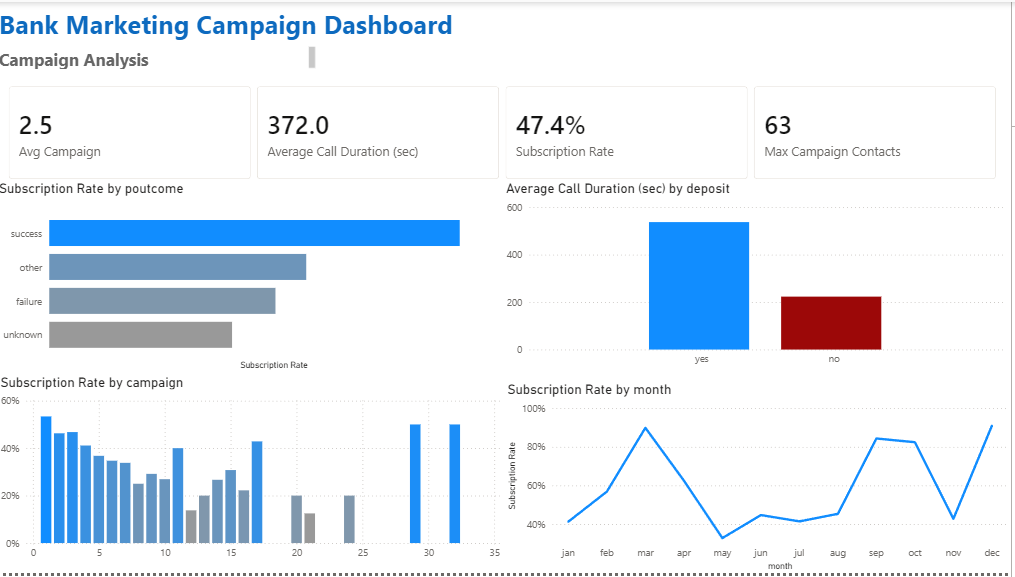

This screenshot's page, from the dashboard's own definition file:
{"tool":"powerbi","page":{"name":" Campaign Analysis","canvas":[1280,720],"ordinal":2},"visuals":[{"type":"textbox","box":[0,0,946.8,71.8],"z":0},{"type":"textbox","box":[0,51,408.2,37.8],"z":1000},{"type":"cardVisual","fields":{"Data":["bank.Avg Campaign","bank.Average Call Duration (sec)","bank.Subscription Rate","bank.Max Campaign Contacts"]},"box":[0,89.6,1280.7,151.4],"z":2000},{"type":"clusteredBarChart","fields":{"Y":["bank.Subscription Rate"],"Category":["bank.poutcome"]},"box":[0,225.1,639.3,243],"z":3000},{"type":"columnChart","fields":{"Y":["bank.Average Call Duration (sec)"],"Category":["bank.deposit"]},"box":[639.4,225.3,639.4,242.7],"z":4000},{"type":"columnChart","fields":{"Category":["bank.campaign"],"Y":["bank.Subscription Rate"]},"box":[1.9,468,639.4,242.7],"z":5000},{"type":"lineChart","fields":{"Y":["bank.Subscription Rate"],"Category":["MonthTable.month"]},"box":[641.3,477.6,639.4,242.7],"z":6000}]}

Visuals, with their boxes in screenshot pixels (x1, y1, x2, y2), scaled from the page's 1280x720 canvas onto the 1015x577 screenshot:
textbox: Rect(0, 0, 751, 58)
textbox: Rect(0, 41, 324, 71)
cardVisual - bank.Avg Campaign x bank.Average Call Duration (sec): Rect(0, 72, 1014, 193)
clusteredBarChart - bank.Subscription Rate x bank.poutcome: Rect(0, 180, 507, 375)
columnChart - bank.Average Call Duration (sec) x bank.deposit: Rect(507, 181, 1014, 375)
columnChart - bank.campaign x bank.Subscription Rate: Rect(2, 375, 509, 570)
lineChart - bank.Subscription Rate x MonthTable.month: Rect(509, 383, 1014, 576)
